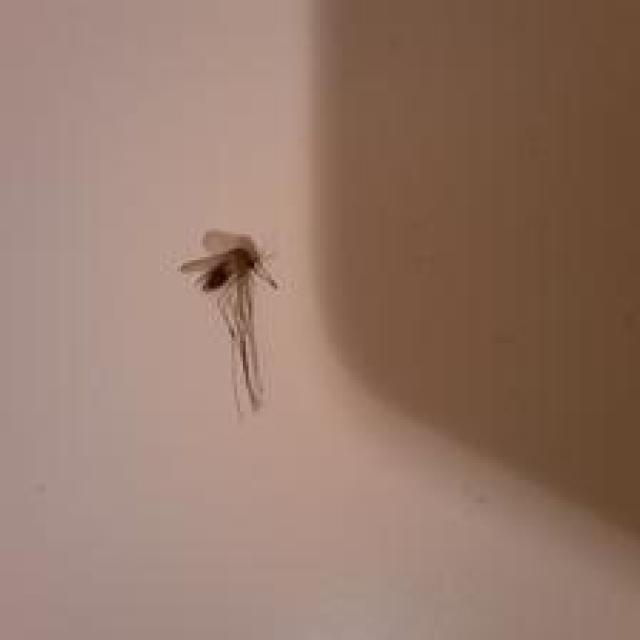Culex: (177, 227, 280, 413)
